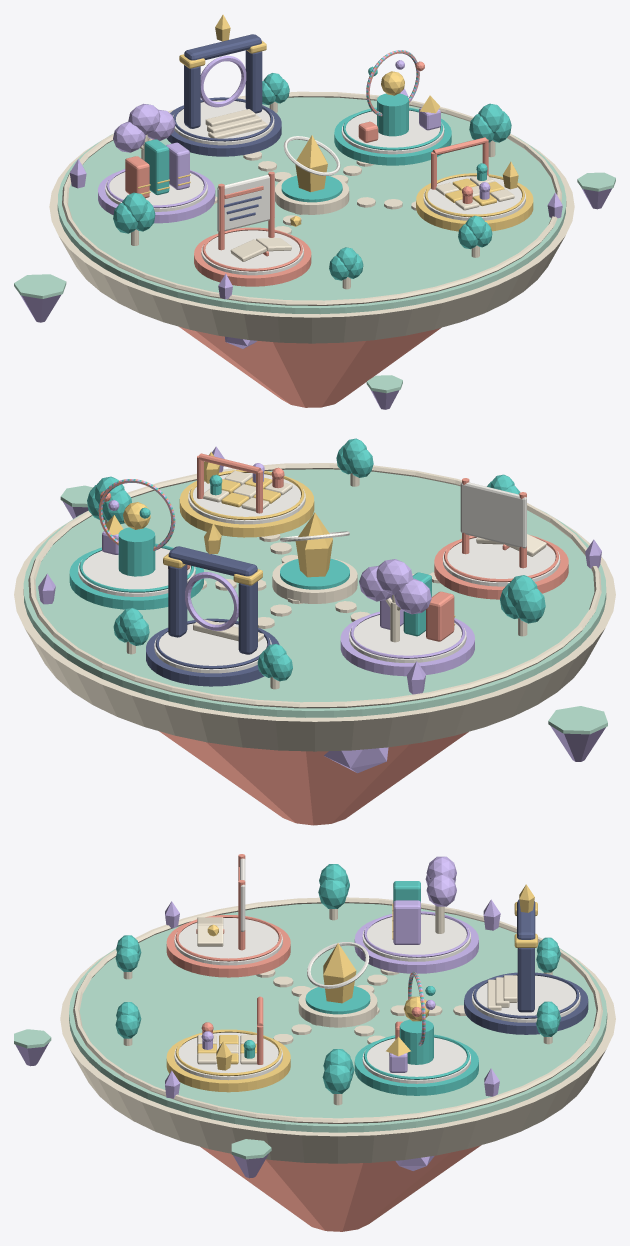
File: quest-isles.glb
3 renders of one model, top to bottom at view 1: azimuth 30°, elevation 25°; view 2: azimuth 150°, elevation 25°; view 3: azimuth 270°, elevation 25°, orthographic. The views are drawn at different scales.
Parts seen in each view (by area): view 1: academy_landscape_mint_canopy, academy_landscape_cream_sandstone, academy_landscape_coral_clay, academy_landscape_teal_lagoon, academy_boss_indigo_ink, academy_recall_lavender_crystal, academy_learn_chalk_white, academy_build_teal_lagoon, academy_learn_coral_clay, academy_play_golden_sparks, academy_landscape_lavender_crystal, academy_build_chalk_white (+16 smaller); view 2: academy_landscape_mint_canopy, academy_landscape_cream_sandstone, academy_landscape_coral_clay, academy_landscape_teal_lagoon, academy_learn_chalk_white, academy_boss_indigo_ink, academy_recall_lavender_crystal, academy_build_teal_lagoon, academy_play_golden_sparks, academy_landscape_lavender_crystal, academy_boss_chalk_white, academy_learn_coral_clay (+13 smaller); view 3: academy_landscape_mint_canopy, academy_landscape_cream_sandstone, academy_landscape_coral_clay, academy_landscape_teal_lagoon, academy_recall_lavender_crystal, academy_build_teal_lagoon, academy_boss_indigo_ink, academy_play_golden_sparks, academy_learn_chalk_white, academy_learn_coral_clay, academy_recall_chalk_white, academy_landscape_lavender_crystal (+13 smaller).
Part boxes in pixels (left/top/right/bottom): academy_landscape_mint_canopy: left=14, top=97, right=615, bottom=393; academy_landscape_cream_sandstone: left=49, top=91, right=574, bottom=343; academy_landscape_coral_clay: left=179, top=326, right=441, bottom=407; academy_landscape_teal_lagoon: left=113, top=73, right=511, bottom=280; academy_boss_indigo_ink: left=167, top=34, right=281, bottom=156; academy_recall_lavender_crystal: left=98, top=103, right=215, bottom=223; academy_learn_chalk_white: left=201, top=174, right=303, bottom=275; academy_build_teal_lagoon: left=334, top=50, right=451, bottom=165; academy_learn_coral_clay: left=194, top=171, right=311, bottom=286; academy_play_golden_sparks: left=416, top=161, right=533, bottom=231; academy_landscape_lavender_crystal: left=20, top=88, right=612, bottom=409; academy_build_chalk_white: left=341, top=110, right=444, bottom=154; academy_landscape_mint_canopy: left=23, top=469, right=607, bottom=734; academy_landscape_cream_sandstone: left=14, top=463, right=615, bottom=751; academy_landscape_coral_clay: left=159, top=731, right=468, bottom=825; academy_landscape_teal_lagoon: left=87, top=438, right=545, bottom=681; academy_learn_chalk_white: left=442, top=482, right=560, bottom=586; academy_boss_indigo_ink: left=146, top=546, right=279, bottom=686; academy_recall_lavender_crystal: left=340, top=559, right=474, bottom=676; academy_build_teal_lagoon: left=69, top=479, right=203, bottom=609; academy_play_golden_sparks: left=179, top=452, right=314, bottom=537; academy_landscape_lavender_crystal: left=38, top=446, right=605, bottom=773; academy_boss_chalk_white: left=154, top=622, right=271, bottom=673; academy_learn_coral_clay: left=434, top=478, right=568, bottom=599; academy_landscape_mint_canopy: left=14, top=903, right=607, bottom=1159; academy_landscape_cream_sandstone: left=60, top=897, right=615, bottom=1163; academy_landscape_coral_clay: left=200, top=1145, right=481, bottom=1231; academy_landscape_teal_lagoon: left=115, top=864, right=560, bottom=1093; academy_recall_lavender_crystal: left=354, top=856, right=478, bottom=973; academy_build_teal_lagoon: left=354, top=972, right=478, bottom=1095; academy_boss_indigo_ink: left=464, top=899, right=588, bottom=1034; academy_play_golden_sparks: left=166, top=1029, right=290, bottom=1092; academy_learn_chalk_white: left=174, top=858, right=282, bottom=965; academy_learn_coral_clay: left=166, top=854, right=290, bottom=977; academy_recall_chalk_white: left=362, top=914, right=470, bottom=961; academy_landscape_lavender_crystal: left=15, top=899, right=500, bottom=1178.
Size of the model in its own units: 14.9 by 8.4 by 13.76.
